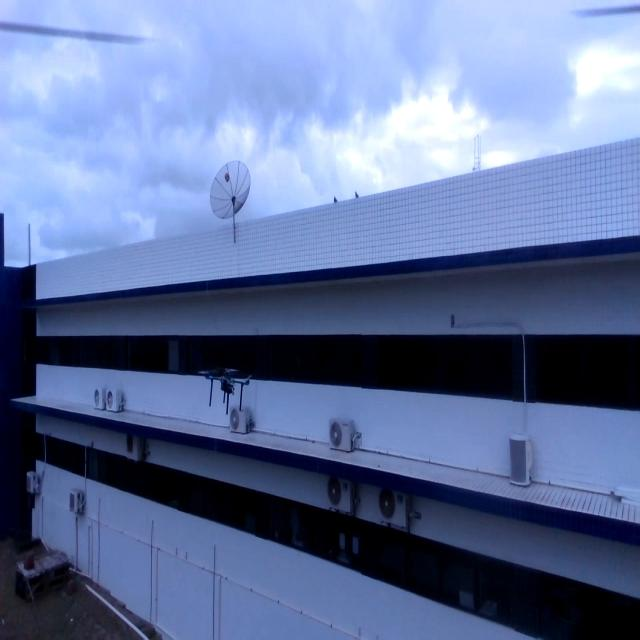-uav-: (189, 338, 268, 434)
